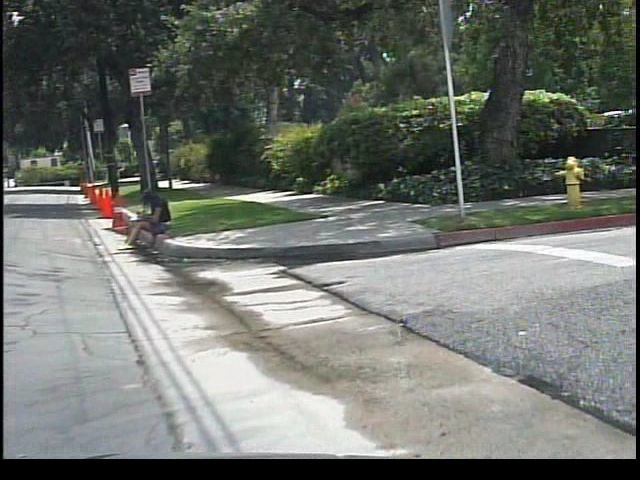person: (122, 187, 181, 252)
